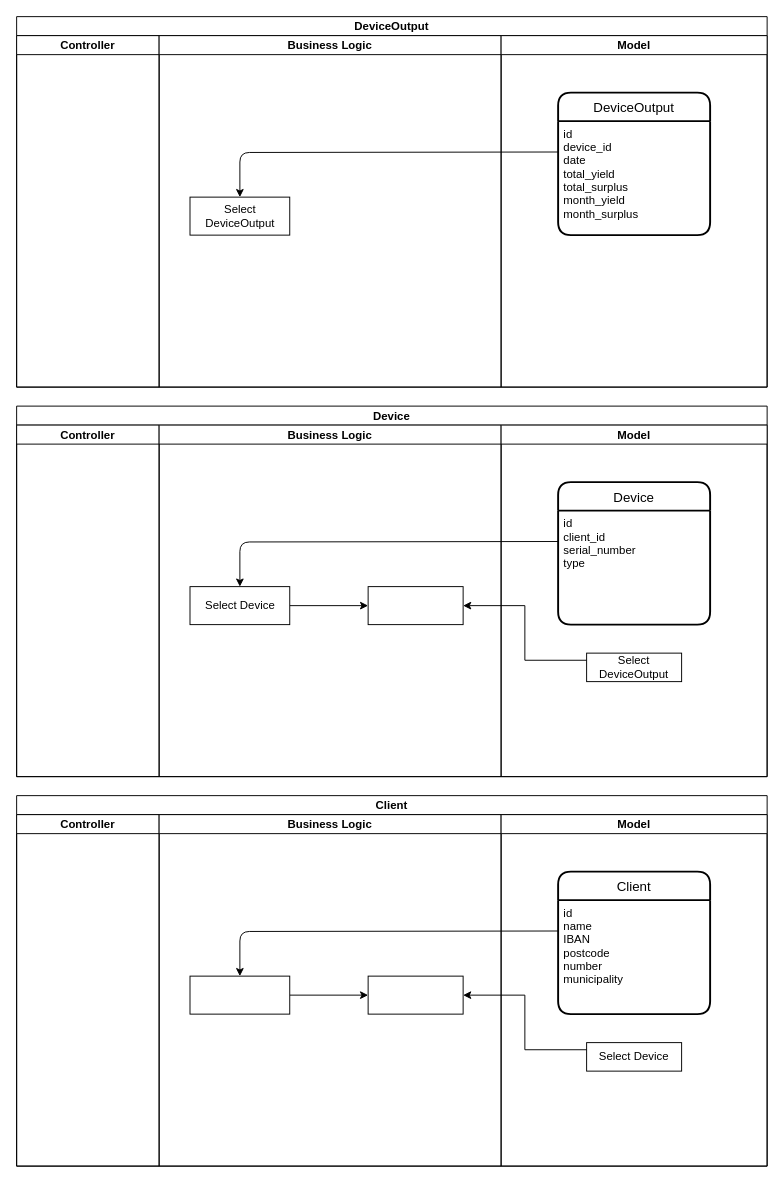
This 784x1183 diagram has some shape labels left out. The centre of each missing label's shape, as x and y in pixels:
"Retrieve Device" goes at pixel 415 994.
"Retrieve DeviceOutput" goes at pixel 415 605.
"Select Client" goes at pixel 239 994.
